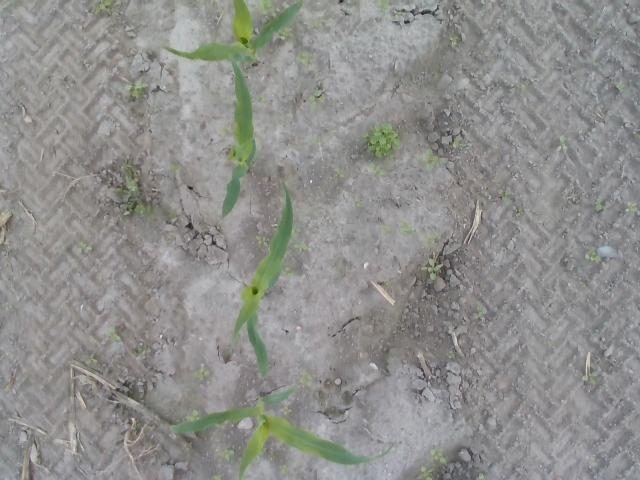Maize: (168, 385, 396, 480), (233, 178, 295, 380), (162, 0, 304, 65), (220, 52, 258, 218)
Weeds: (108, 163, 147, 216), (362, 120, 402, 161), (418, 147, 440, 171), (424, 257, 444, 282), (128, 82, 146, 100), (258, 0, 276, 17), (431, 448, 447, 466), (581, 374, 599, 388), (94, 0, 112, 14), (584, 250, 601, 264), (401, 223, 418, 237), (192, 367, 210, 380), (418, 465, 433, 480), (298, 372, 312, 388), (308, 90, 324, 104), (295, 52, 313, 64), (254, 234, 269, 248), (556, 135, 569, 151), (625, 201, 640, 214), (184, 409, 200, 421), (76, 240, 90, 253), (106, 327, 120, 340), (368, 163, 383, 175), (292, 240, 306, 252), (594, 200, 606, 214), (223, 448, 235, 462), (278, 406, 294, 416), (86, 353, 98, 366), (377, 0, 390, 12), (424, 234, 436, 246), (210, 472, 228, 480), (477, 305, 488, 318), (616, 78, 626, 92), (498, 190, 510, 200), (278, 463, 288, 474), (280, 28, 290, 38), (355, 200, 364, 208), (392, 10, 402, 16)
